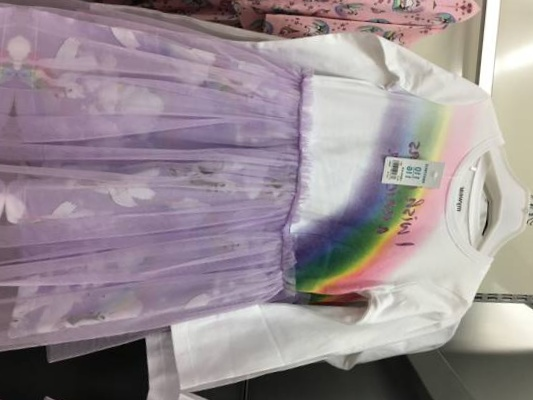Dress: (0, 0, 533, 400), (0, 0, 22, 355), (0, 395, 533, 400)
